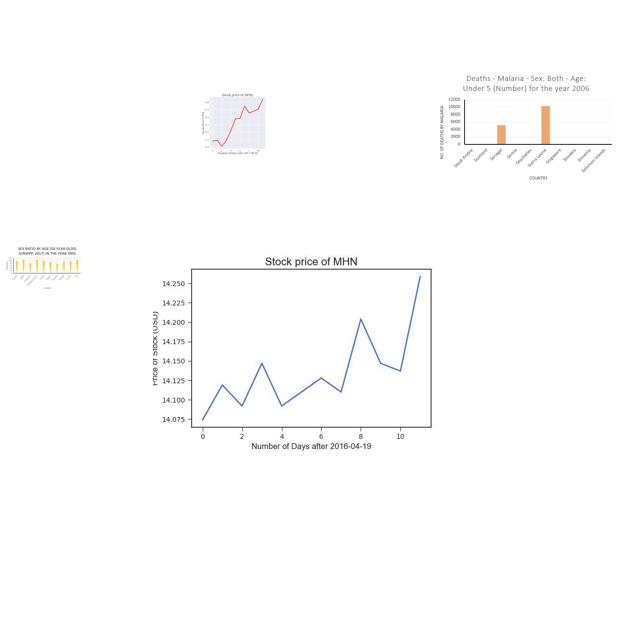Graph: (153, 231, 462, 463), (436, 71, 615, 183), (188, 89, 285, 156), (4, 245, 83, 290)
